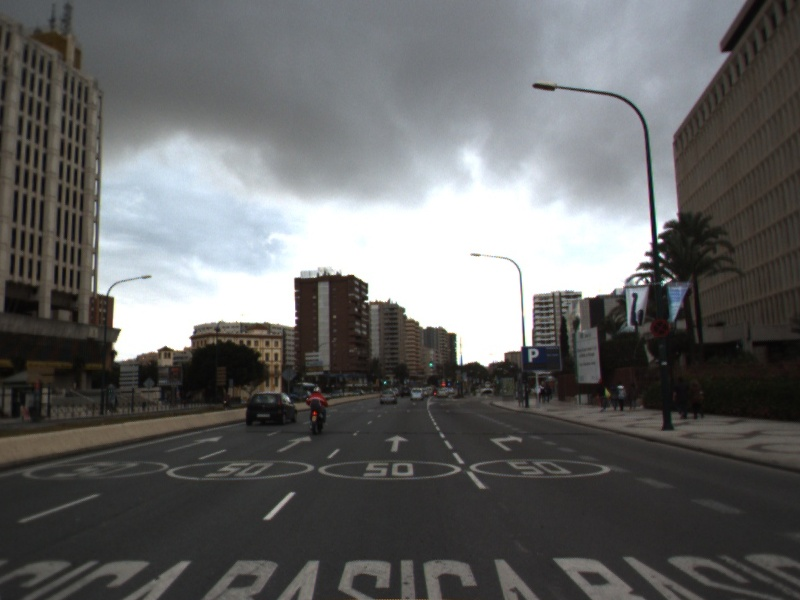RIGHT: (487, 433, 525, 453)
STRAIGHT: (162, 434, 226, 454), (274, 433, 314, 454), (382, 433, 411, 454)
